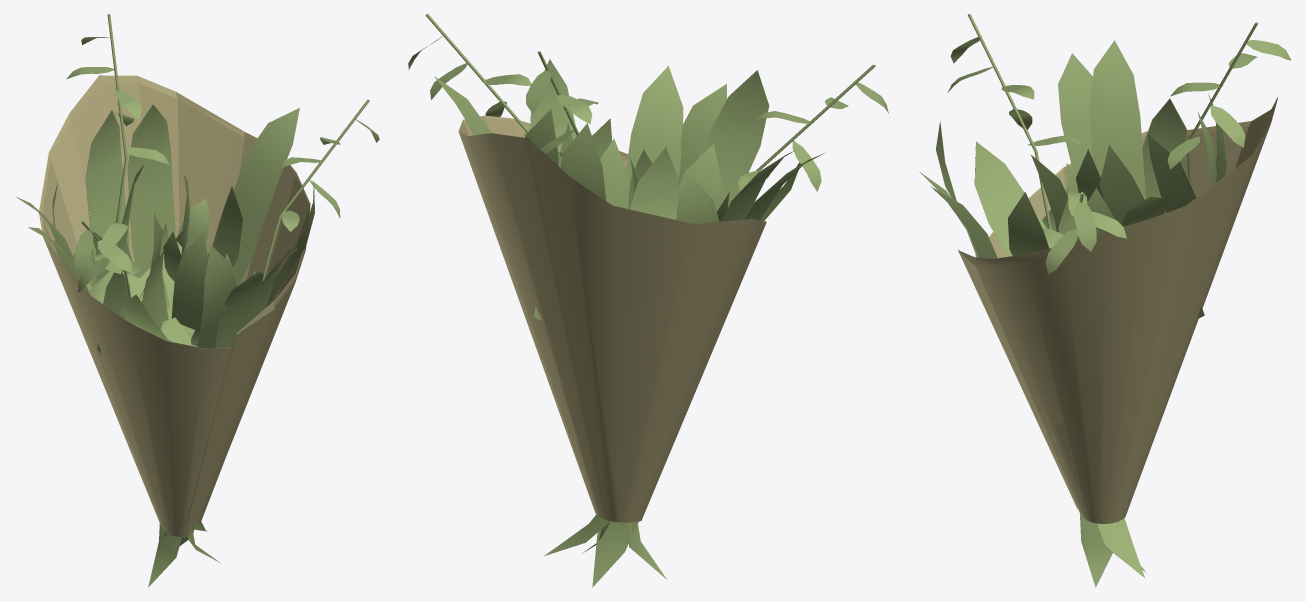
The model's file is bouquet.fbx.
3 renders of one model, left to right at view 1: azimuth 30°, elevation 25°; view 2: azimuth 150°, elevation 25°; view 3: azimuth 270°, elevation 25°, orthographic. The views are drawn at different scales.
Visible parts, largest first — view 1: pCylinder1, pCube10, pCube18, pCube9, pCube20, pCube15, pDisc1, pCube1, pCube14, pCylinder4 (×2), pCube17, pCube16 (+9 smaller); view 2: pCylinder1, pCube15, pCube4, pCube25, pCube1, pCube9, pCube5, pCube17, pCube32, pCube16, pCube13, pCube12 (+4 smaller); view 3: pCylinder1, pCube12, pCube24, pCube11, pCube33, pCube13, pCube32, pCube16, pCube39 (×2), pCylinder4 (×2), pCube6, pCube8 (+9 smaller).
Part boxes in pixels (x1,y1,x2,y2): pCylinder1: (39,75,310,537); pCube10: (127,104,175,265); pCube18: (233,108,299,285); pCube9: (85,110,129,262); pCube20: (171,233,208,329); pCube15: (197,245,236,348); pDisc1: (89,241,254,346); pCube1: (215,272,263,347); pCube14: (207,186,243,267); pCylinder4 (×2): (107,14,369,281); pCube17: (142,249,168,329); pCube16: (267,180,314,306); pCylinder1: (458,115,766,522); pCube15: (697,70,769,206); pCube4: (626,66,683,195); pCube25: (630,147,678,219); pCube1: (678,84,726,186); pCube9: (560,123,606,200); pCube5: (592,521,638,587); pCube17: (677,144,723,211); pCube32: (600,138,628,208); pCube16: (530,59,576,156); pCube13: (676,174,719,223); pCube12: (721,150,795,221); pCylinder1: (958,97,1277,523); pCube12: (1089,40,1146,199); pCube24: (974,141,1054,256); pCube11: (1058,53,1092,176); pCube33: (1099,145,1204,318); pCube13: (1142,98,1186,213); pCube32: (1147,133,1196,212); pCube16: (1008,192,1049,255); pCube39 (×2): (1045,105,1245,274); pCylinder4 (×2): (968,14,1258,229); pCube6: (1079,512,1118,587); pCube8: (1097,518,1144,577).
Size of the model in its own units: 2.75 by 3.71 by 2.28.
